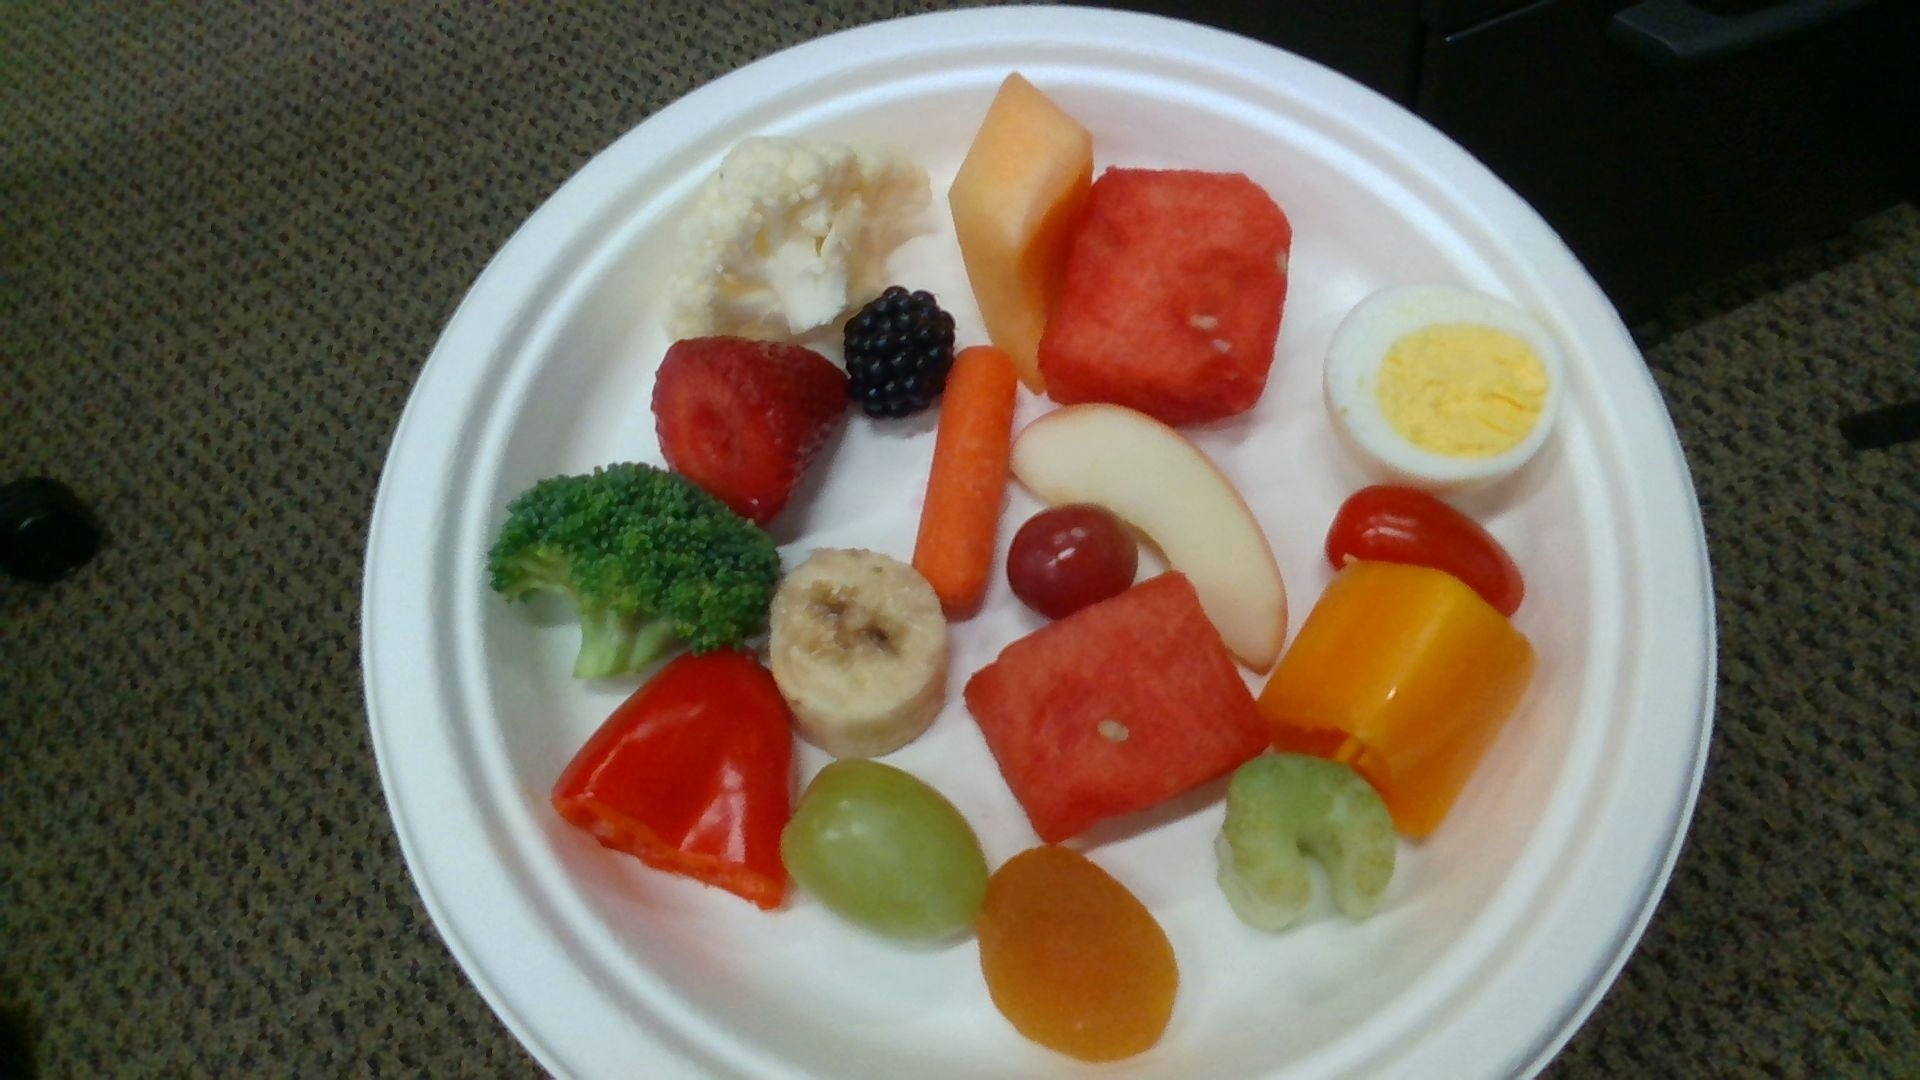apple: (1011, 404, 1284, 671)
apricot: (984, 847, 1178, 1062)
banana: (769, 551, 942, 756)
bell_pepper: (1261, 560, 1535, 835), (554, 645, 795, 906)
blackberry: (844, 293, 957, 415)
broccoli: (489, 465, 779, 673)
cantalope: (949, 73, 1092, 386)
carrot: (914, 349, 1017, 605)
cauliflower: (670, 136, 930, 335)
celery: (1220, 758, 1394, 928)
cherry_tomato: (1331, 488, 1524, 615)
egg: (1327, 280, 1564, 487)
grape_green: (781, 761, 986, 949)
grape_purple: (1010, 506, 1137, 616)
melon: (967, 576, 1257, 845), (1040, 171, 1290, 429)
strawberry: (651, 342, 851, 520)
